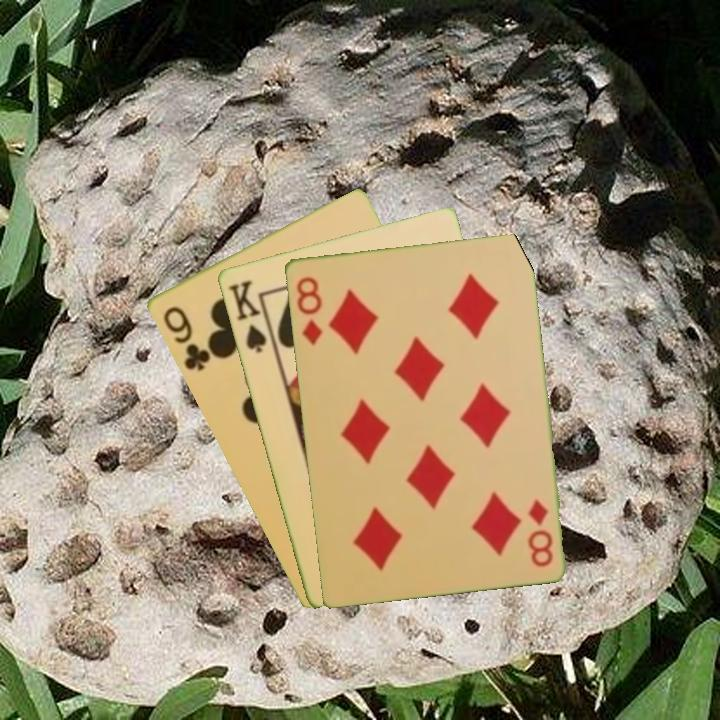8d: (292, 272, 325, 348), (524, 496, 556, 569)
9c: (159, 302, 213, 374)
Ks: (223, 276, 276, 356)
